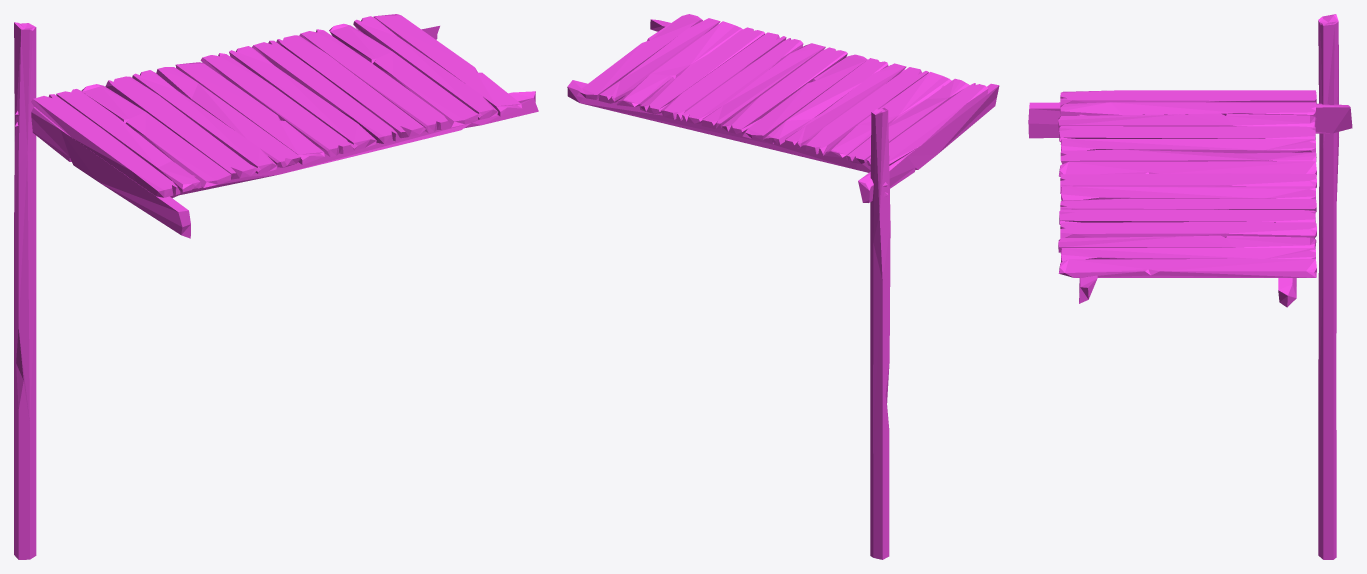
Rendered from SM_Pier_Platform_Short_Fantasy.fbx.
The picture shows the model from 3 angles, left to right: view 1: azimuth 30°, elevation 25°; view 2: azimuth 150°, elevation 25°; view 3: azimuth 270°, elevation 25°; orthographic projection. The views are drawn at different scales.
Visible parts, largest first — view 1: SM_Pier_Platform_Short_Fantasy; view 2: SM_Pier_Platform_Short_Fantasy; view 3: SM_Pier_Platform_Short_Fantasy.
Part boxes in pixels (bbox=[...]): SM_Pier_Platform_Short_Fantasy: bbox=[14, 14, 538, 559]; SM_Pier_Platform_Short_Fantasy: bbox=[567, 14, 999, 559]; SM_Pier_Platform_Short_Fantasy: bbox=[1028, 14, 1352, 559].
Bounding box in the file's own units: 5.48 × 6.94 × 3.79.
